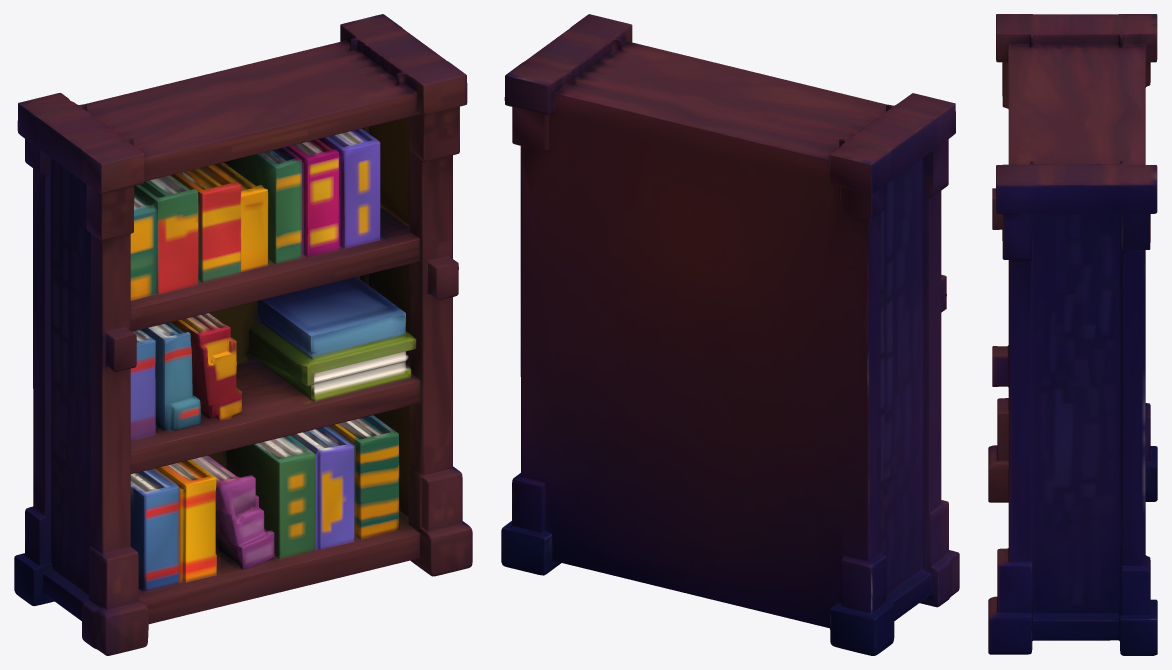
Rendered from bookshelf.glb.
The picture shows the model from 3 angles, left to right: view 1: azimuth 30°, elevation 25°; view 2: azimuth 150°, elevation 25°; view 3: azimuth 270°, elevation 25°; orthographic projection. The views are drawn at different scales.
Parts seen in each view (by area): view 1: node_0; view 2: node_0; view 3: node_0.
Boxes of the visible parts, box(x1,y1,x2,y2) form: node_0: box(14, 14, 472, 655); node_0: box(501, 14, 959, 655); node_0: box(988, 14, 1157, 655).
Bounding box in the file's own units: 0.728 × 0.9143 × 0.2992.
Materials: 1 (1 with a texture image).
